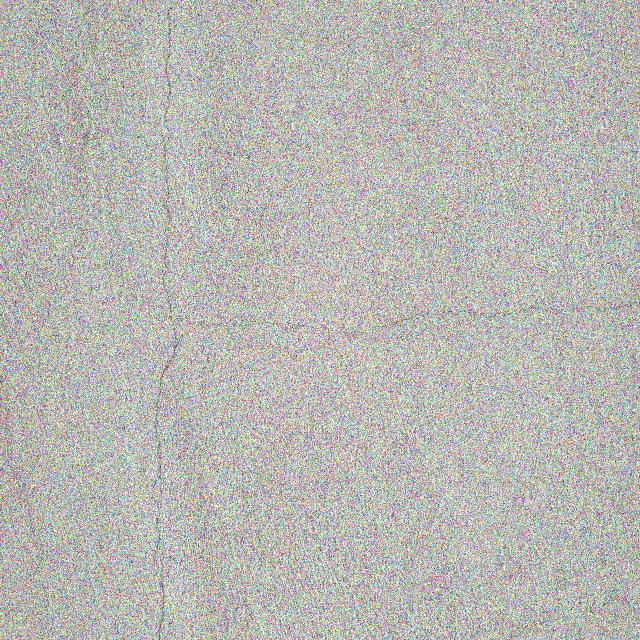SurfaceCrack: (128, 0, 215, 326), (125, 323, 207, 640)
